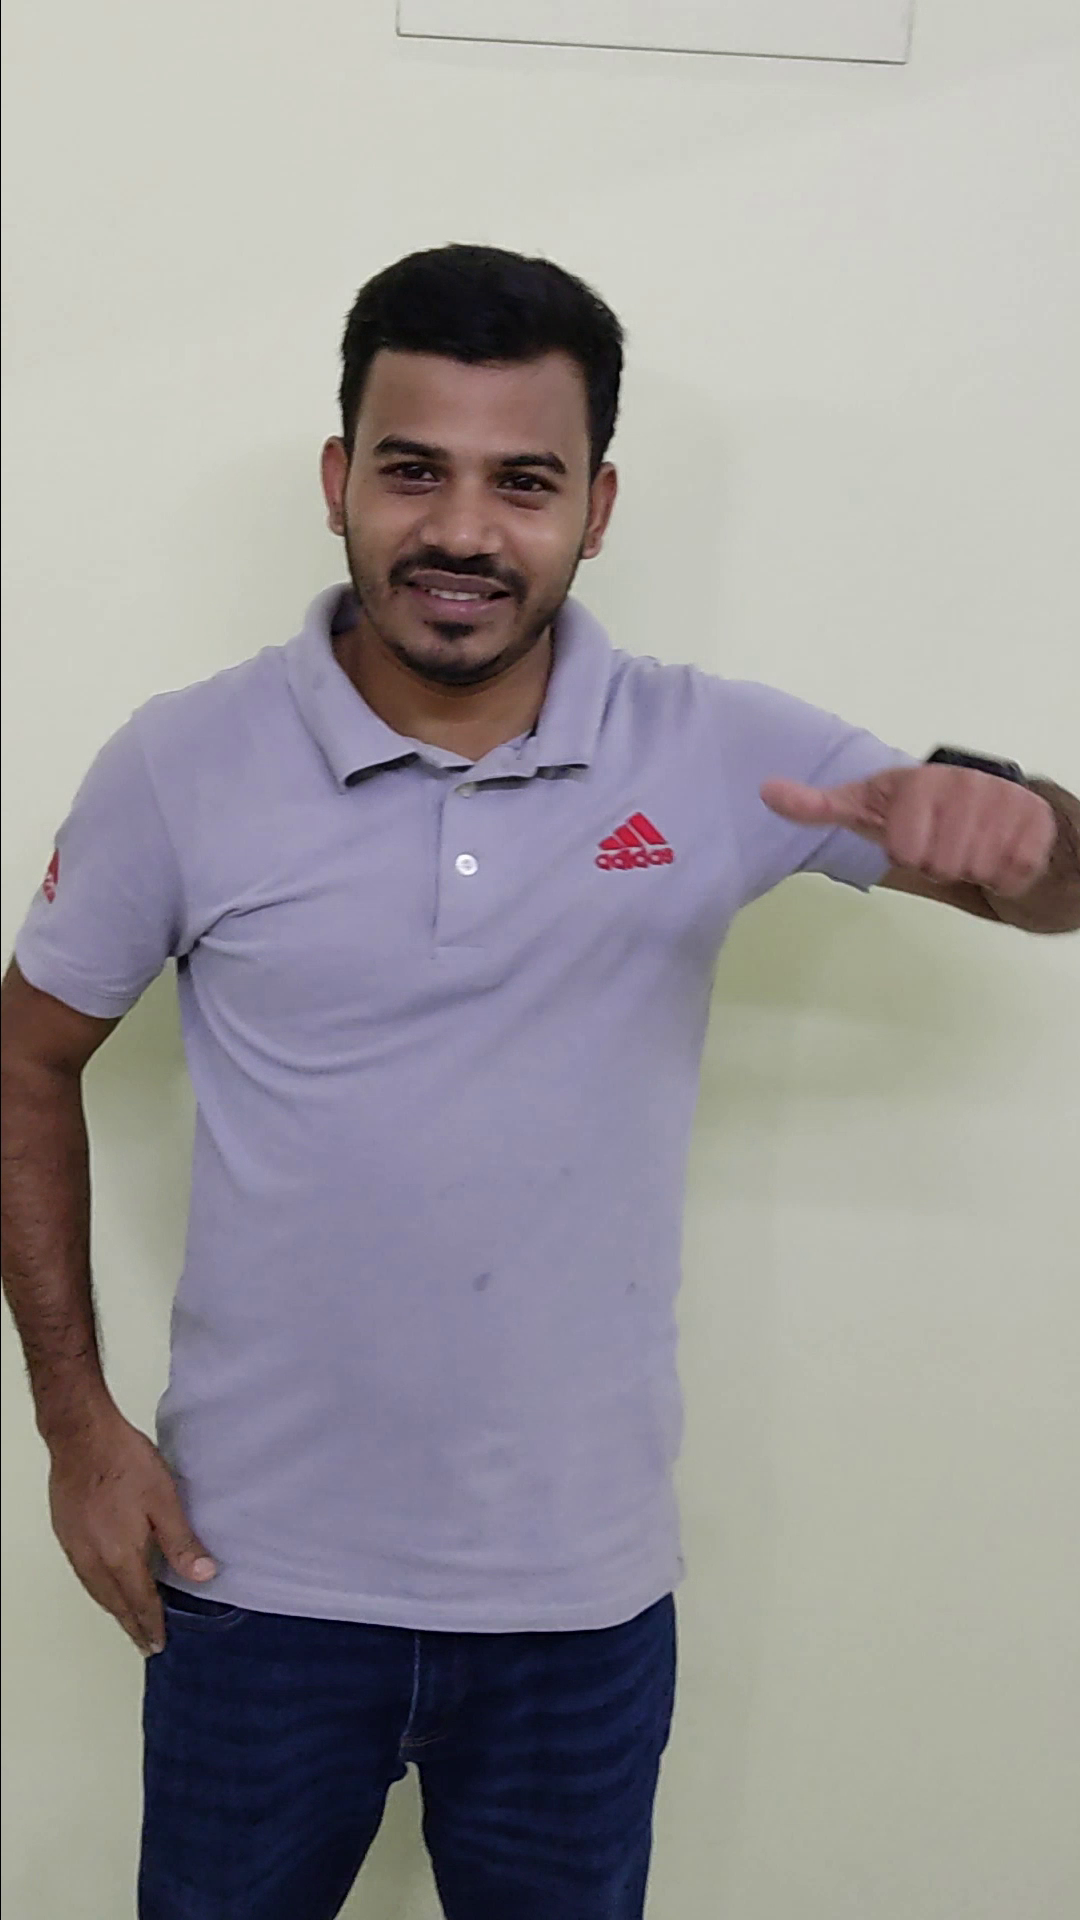Like: (748, 692, 1060, 982)
None: (38, 1389, 252, 1681)
